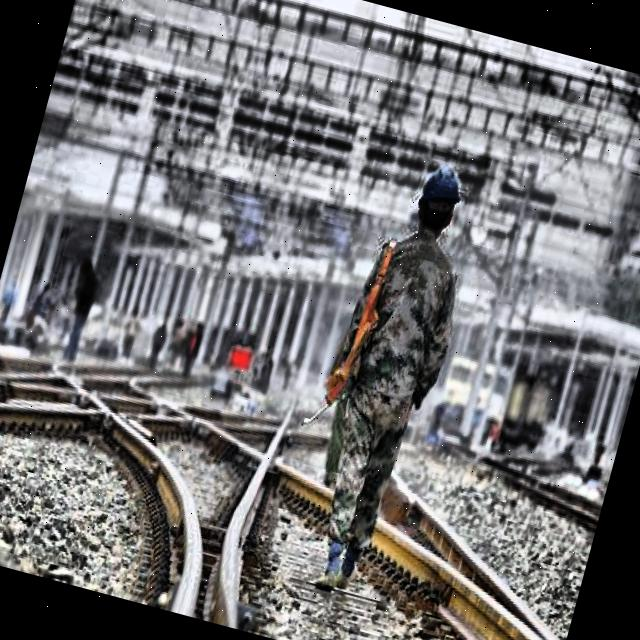helmet: (407, 156, 470, 238)
